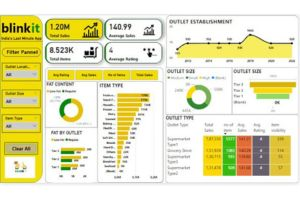

This screenshot's page, from the dashboard's own definition file:
{"tool":"powerbi","page":{"name":"Page 1","canvas":[1280,720],"ordinal":0},"visuals":[{"type":"textbox","box":[193.5,223.9,506.5,495.7],"z":0},{"type":"lineChart","title":"OUTLET ESTABLISHMENT","fields":{"Category":["BlinkIT Grocery Data.Outlet Establishment Year"],"Y":["CountNonNull(BlinkIT Grocery Data.Sales)"]},"box":[710.6,0,570.2,223.4],"z":1000},{"type":"shape","box":[713,0,567.4,719.6],"z":2000},{"type":"donutChart","title":"OUTLET SIZE","fields":{"Category":["BlinkIT Grocery Data.Outlet Size"],"Y":["Sum(BlinkIT Grocery Data.Sales)"]},"box":[710.6,223.4,285.1,202.1],"z":3000},{"type":"funnel","title":"OUTLET SIZE","fields":{"Category":["BlinkIT Grocery Data.Outlet Location Type"],"Y":["Sum(BlinkIT Grocery Data.Sales)"]},"box":[995.7,223.4,285.1,202.1],"z":4000},{"type":"barChart","title":"ITEM TYPE","fields":{"Category":["BlinkIT Grocery Data.Item Type"],"Y":["Sum(BlinkIT Grocery Data.Sales)"]},"box":[417.4,282.6,282.6,437],"z":5000},{"type":"tableEx","title":"OUTLET TYPE","fields":{"Values":["BlinkIT Grocery Data.Outlet Type","Sum(BlinkIT Grocery Data.Sales)","CountNonNull(BlinkIT Grocery Data.no of item)","Avg(BlinkIT Grocery Data.Sales)","Avg(BlinkIT Grocery Data.Rating)","Sum(BlinkIT Grocery Data.no of item)"]},"box":[710.6,425.5,570.2,293.6],"z":6000},{"type":"donutChart","title":"FAT CONTENT","fields":{"Y":["CountNonNull(BlinkIT Grocery Data.Item Fat Content)"],"Category":["BlinkIT Grocery Data.Item Fat Content"]},"box":[193.5,282.6,223.9,200],"z":7000},{"type":"advancedSlicerVisual","fields":{"Values":["BlinkIT Grocery Data.Category"]},"box":[200,230.4,482.6,52.2],"z":8000},{"type":"shape","box":[0,0,182.6,719.6],"z":9000},{"type":"textbox","title":"blink","box":[0,15.2,182.6,63],"z":10000},{"type":"textbox","title":"it","box":[128.3,15.2,76.1,63],"z":11000},{"type":"textbox","title":"India''s Last Minute App","box":[0,89.1,182.6,50],"z":12000},{"type":"textbox","title":"Filter Pannel","box":[8.7,139.1,165.2,39.1],"z":13000},{"type":"slicer","fields":{"Values":["BlinkIT Grocery Data.Outlet Location Type"]},"box":[8.7,204.3,165.2,78.3],"z":14000},{"type":"slicer","fields":{"Values":["BlinkIT Grocery Data.Item Type"]},"box":[8.7,426.1,165.2,78.3],"z":15000},{"type":"slicer","fields":{"Values":["BlinkIT Grocery Data.Outlet Size"]},"box":[8.7,319.6,165.2,78.3],"z":16000},{"type":"actionButton","box":[19.6,545.7,143.5,52.2],"z":17000},{"type":"clusteredBarChart","title":"FAT BY OUTLET","fields":{"Category":["BlinkIT Grocery Data.Outlet Location Type"],"Y":["CountNonNull(BlinkIT Grocery Data.Item Fat Content)"],"Series":["BlinkIT Grocery Data.Item Fat Content"]},"box":[204.3,482.6,213,237],"z":18000},{"type":"cardVisual","fields":{"Data":["Sum(BlinkIT Grocery Data.Sales)"]},"box":[193.5,15.2,247.8,91.3],"z":19000},{"type":"cardVisual","fields":{"Data":["CountNonNull(BlinkIT Grocery Data.no of item)"]},"box":[193.5,115.2,247.8,91.3],"z":20000},{"type":"cardVisual","fields":{"Data":["Avg(BlinkIT Grocery Data.Sales)"]},"box":[447.8,15.2,247.8,91.3],"z":21000},{"type":"cardVisual","fields":{"Data":["Avg(BlinkIT Grocery Data.Rating)"]},"box":[447.8,115.2,247.8,91.3],"z":22000},{"type":"image","box":[589.1,119.6,100,80.4],"z":22001},{"type":"image","box":[0,602.2,171.7,102.2],"z":22002},{"type":"image","box":[337,123.9,104.3,71.7],"z":22003},{"type":"image","box":[347.8,15.2,82.6,95.7],"z":22004},{"type":"image","box":[608.7,23.9,60.9,76.1],"z":22005}]}

Visuals, with their boxes in screenshot pixels (x1, y1, x2, y2):
textbox: box=[45, 67, 162, 182]
"OUTLET ESTABLISHMENT" lineChart: box=[164, 16, 296, 67]
shape: box=[165, 16, 296, 182]
"OUTLET SIZE" donutChart: box=[164, 67, 230, 114]
"OUTLET SIZE" funnel: box=[230, 67, 296, 114]
"ITEM TYPE" barChart: box=[96, 81, 162, 182]
"OUTLET TYPE" tableEx: box=[164, 114, 296, 182]
"FAT CONTENT" donutChart: box=[45, 81, 96, 127]
advancedSlicerVisual - BlinkIT Grocery Data.Category: box=[46, 69, 158, 81]
shape: box=[0, 16, 42, 182]
"blink" textbox: box=[0, 19, 42, 34]
"it" textbox: box=[30, 19, 47, 34]
"India''s Last Minute App" textbox: box=[0, 36, 42, 48]
"Filter Pannel" textbox: box=[2, 48, 40, 57]
slicer - BlinkIT Grocery Data.Outlet Location Type: box=[2, 63, 40, 81]
slicer - BlinkIT Grocery Data.Item Type: box=[2, 114, 40, 132]
slicer - BlinkIT Grocery Data.Outlet Size: box=[2, 89, 40, 108]
actionButton: box=[5, 142, 38, 154]
"FAT BY OUTLET" clusteredBarChart: box=[47, 127, 96, 182]
cardVisual - Sum(BlinkIT Grocery Data.Sales): box=[45, 19, 102, 40]
cardVisual - CountNonNull(BlinkIT Grocery Data.no of item): box=[45, 42, 102, 63]
cardVisual - Avg(BlinkIT Grocery Data.Sales): box=[104, 19, 161, 40]
cardVisual - Avg(BlinkIT Grocery Data.Rating): box=[104, 42, 161, 63]
image: box=[136, 43, 159, 62]
image: box=[0, 155, 40, 178]
image: box=[78, 44, 102, 61]
image: box=[80, 19, 99, 41]
image: box=[141, 21, 155, 39]
